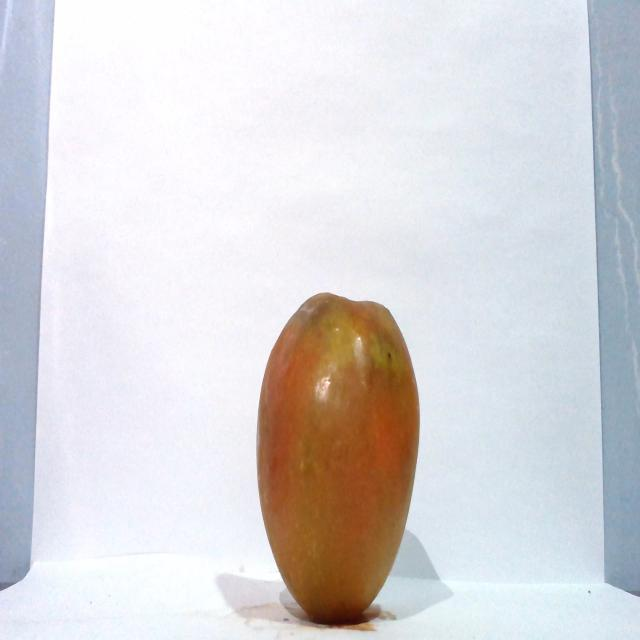Red: (254, 290, 421, 624)
